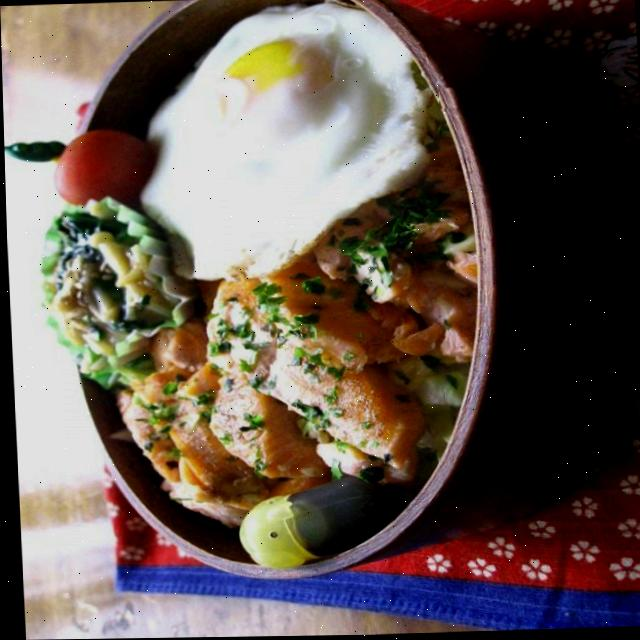鸡蛋料理: (81, 0, 433, 290)
